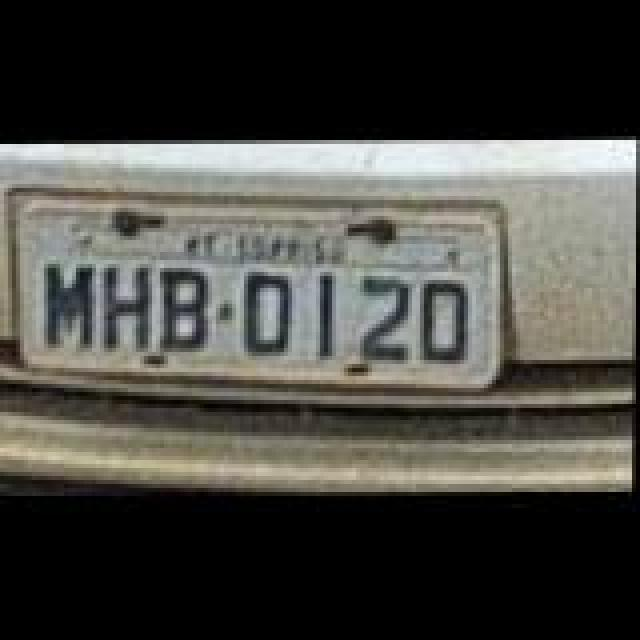1: (316, 274, 340, 362)
2: (362, 280, 422, 364)
B: (160, 266, 216, 354)
D: (420, 282, 476, 370), (246, 274, 298, 362)
H: (102, 268, 162, 356)
M: (42, 264, 102, 352)
